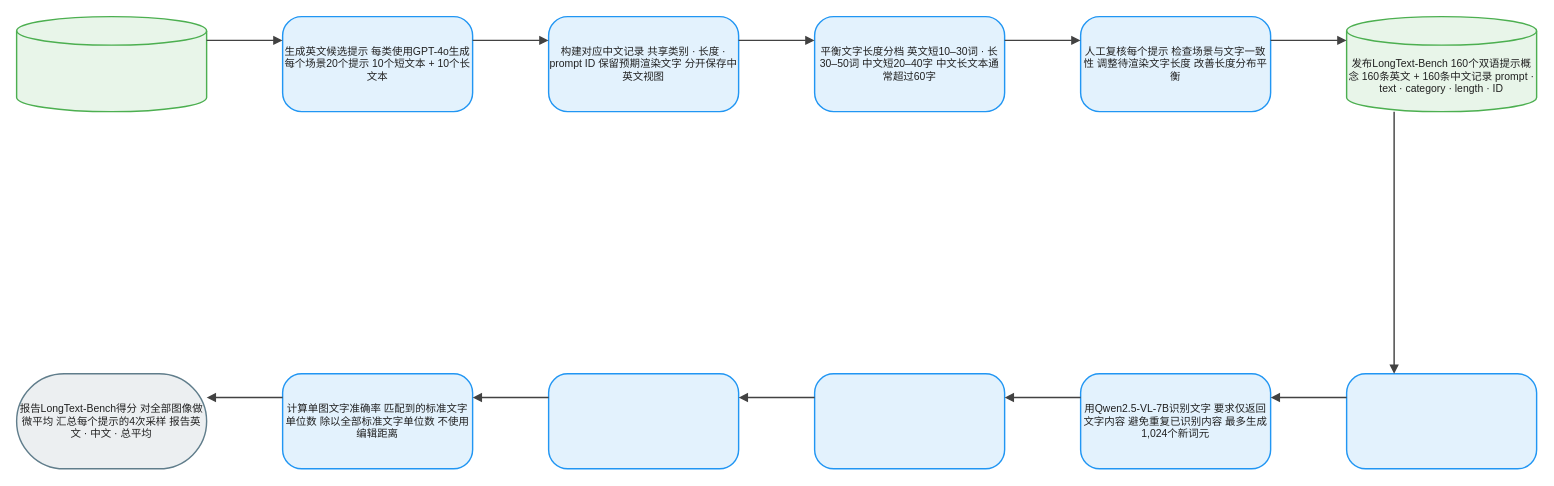
This 1554x486 diagram has some shape labels left out. The shapes that lost their labels are listed below. From the top down, each one's centre as x and y in pixels, then its label:
At point (111, 63): "定义八类富文本场景 标牌 · 物体标签 · 印刷品 · 网页 幻灯片 · 海报 · 字幕 · 对话 覆盖实用长文本布局".
At point (643, 421): "按无序多重集合匹配 英文单位 · 单词 中文单位 · 字符 忽略文字片段相对顺序".
At point (909, 421): "归一化OCR与标准文字 删除标点与符号 英文 · 小写化并合并空格 中文 · 保留汉字与字母数字".
At point (1441, 421): "生成评测图像 使用各语言专用提示词 每个提示采样4张图像 保存为prompt_id_repeat_id.png".
